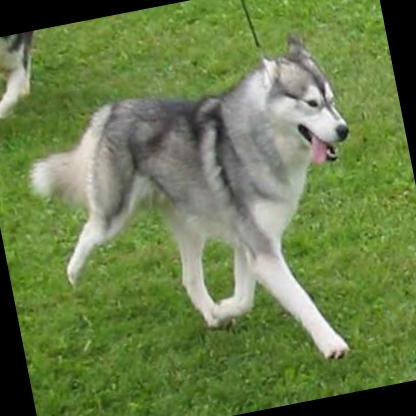Siberian_husky: (8, 21, 393, 412), (0, 30, 49, 142)
